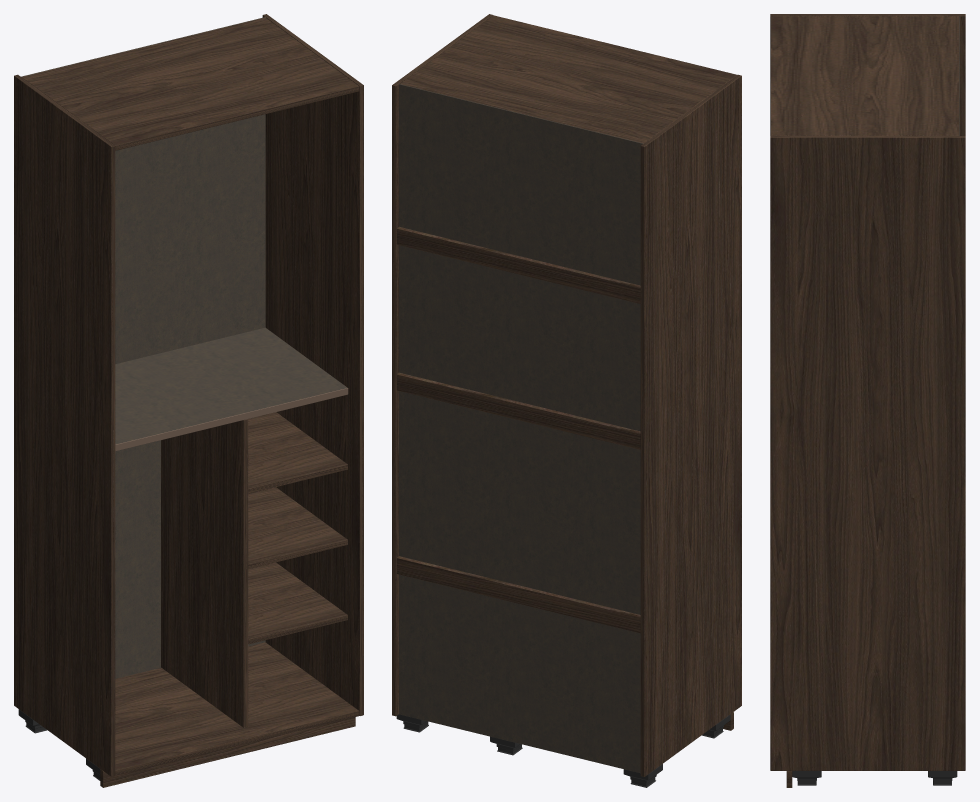
The picture shows the model from 3 angles, left to right: view 1: azimuth 30°, elevation 25°; view 2: azimuth 150°, elevation 25°; view 3: azimuth 270°, elevation 25°; orthographic projection.
Visible parts, largest first — view 1: HK1001072; view 2: HK1001072; view 3: HK1001072.
Part boxes in pixels (bbox=[...]): HK1001072: bbox=[14, 14, 363, 787]; HK1001072: bbox=[392, 14, 741, 787]; HK1001072: bbox=[770, 14, 965, 787].
Bounding box in the file's own units: 0.9 × 2.2 × 0.6.
Materials: 7 (6 with a texture image).
